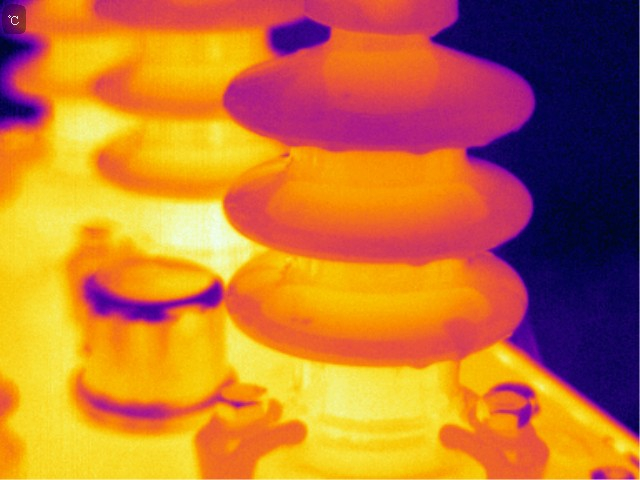Oil: (407, 357, 435, 371), (404, 255, 432, 269), (316, 142, 345, 154), (405, 145, 439, 155)
